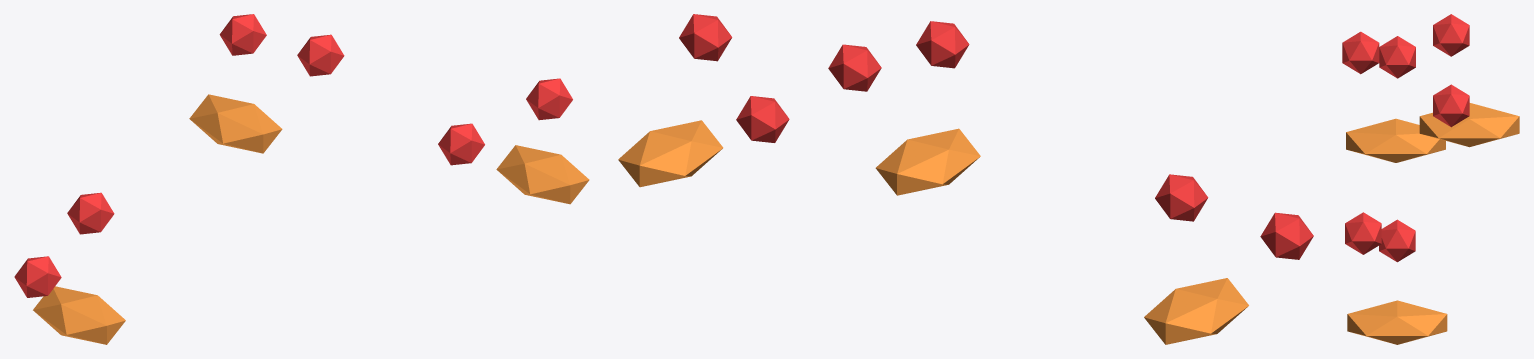
File: CerberusSitsEyes.obj
3 views of the same model, side by side, from view 1: azimuth 30°, elevation 25°; view 2: azimuth 150°, elevation 25°; view 3: azimuth 270°, elevation 25° (orthographic). The views are drawn at different scales.
Visible parts, largest first — view 1: CerberusSitsEyes; view 2: CerberusSitsEyes; view 3: CerberusSitsEyes.
Boxes of the visible parts, box(x1,y1,x2,y2) form: CerberusSitsEyes: box(14, 14, 589, 344); CerberusSitsEyes: box(618, 14, 1313, 344); CerberusSitsEyes: box(1342, 14, 1519, 344).
Size of the model in its own units: 5.57 by 2.27 by 1.64.
1 material, 1 textured.
